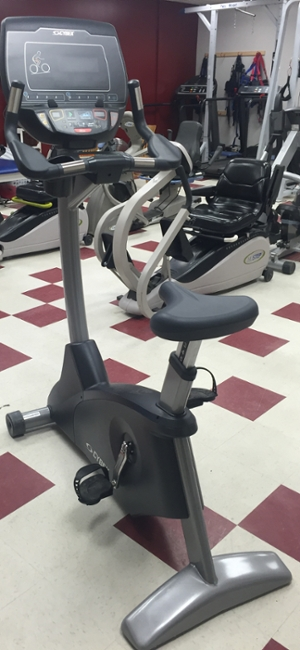gym_bike: (6, 27, 296, 646)
